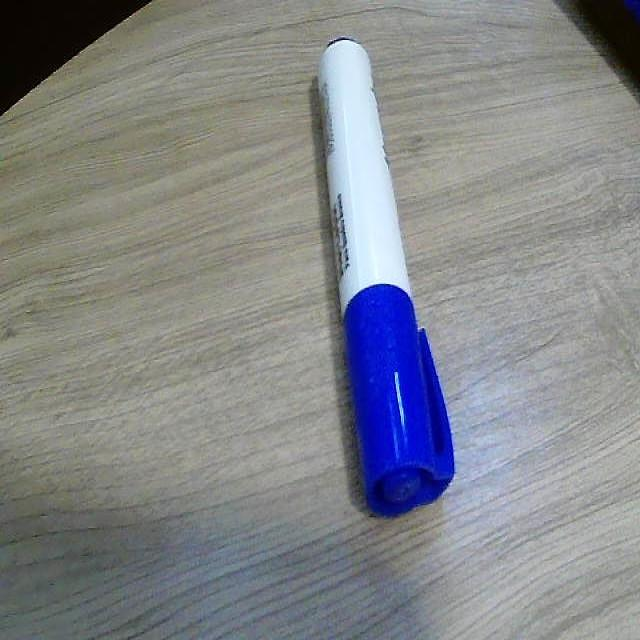caneta: (307, 35, 463, 522)
